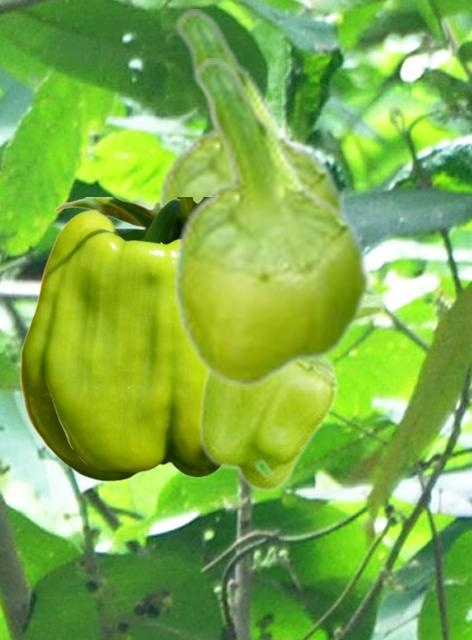bell_pepper: (171, 58, 371, 388), (19, 197, 220, 481), (153, 9, 349, 215), (197, 291, 388, 492)
